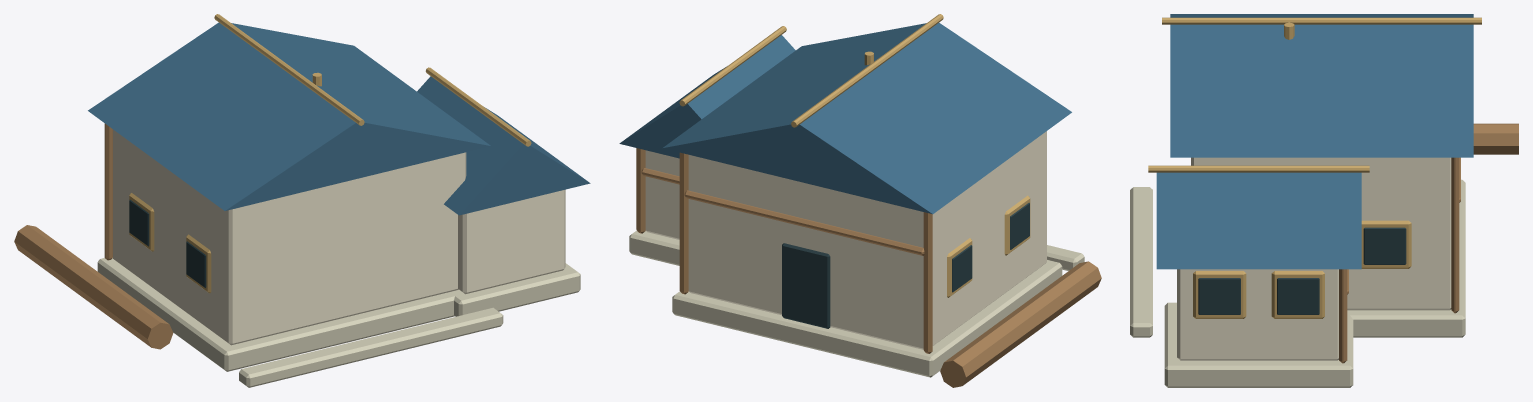
The model's file is level_12.glb.
The picture shows the model from 3 angles, left to right: view 1: azimuth 30°, elevation 25°; view 2: azimuth 150°, elevation 25°; view 3: azimuth 270°, elevation 25°; orthographic projection. The views are drawn at different scales.
Parts seen in each view (by area): view 1: timber_yard — level 12; view 2: timber_yard — level 12; view 3: timber_yard — level 12.
Boxes of the visible parts, <box> form: timber_yard — level 12: <box>14,14,590,387</box>; timber_yard — level 12: <box>619,14,1101,387</box>; timber_yard — level 12: <box>1130,14,1518,387</box>.
Size of the model in its own units: 6.43 by 3.39 by 4.74.
